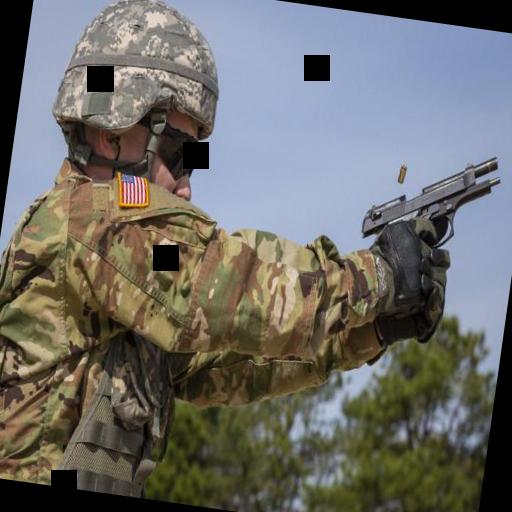Handgun: (354, 131, 506, 276)
